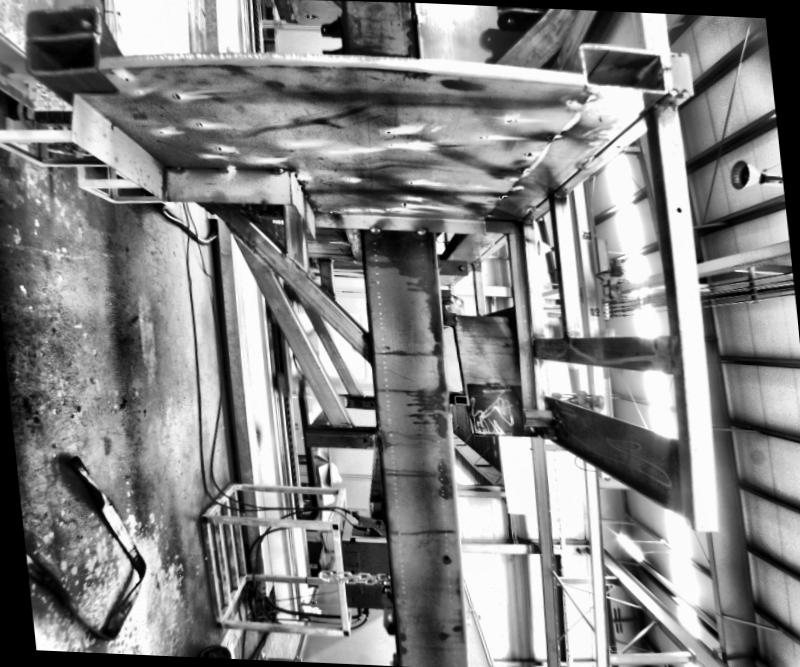hole: (674, 204, 682, 211), (442, 551, 448, 558), (361, 435, 367, 441), (632, 348, 638, 354)
welding: (208, 160, 234, 175), (164, 159, 184, 172), (411, 224, 429, 233), (367, 221, 379, 233), (265, 164, 283, 171)
